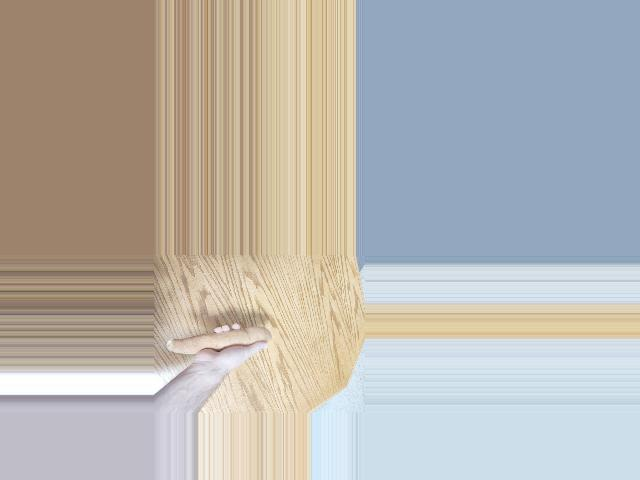sweet_potato: (167, 322, 269, 357)
